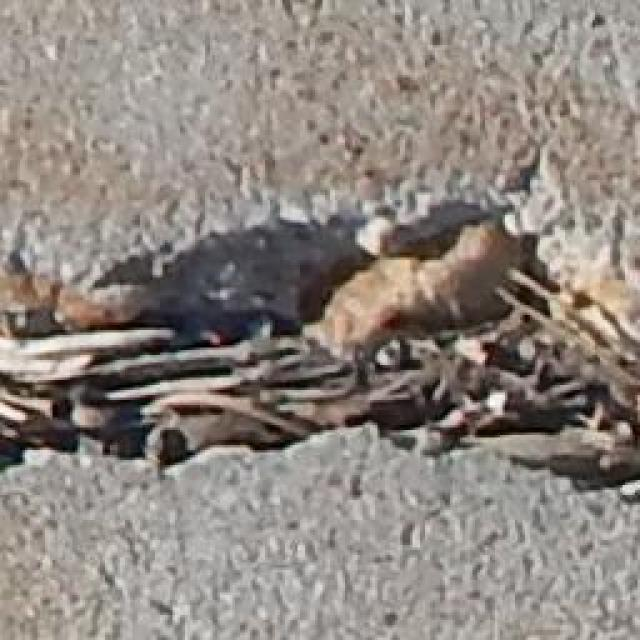concrete-crack: (0, 191, 640, 500)
